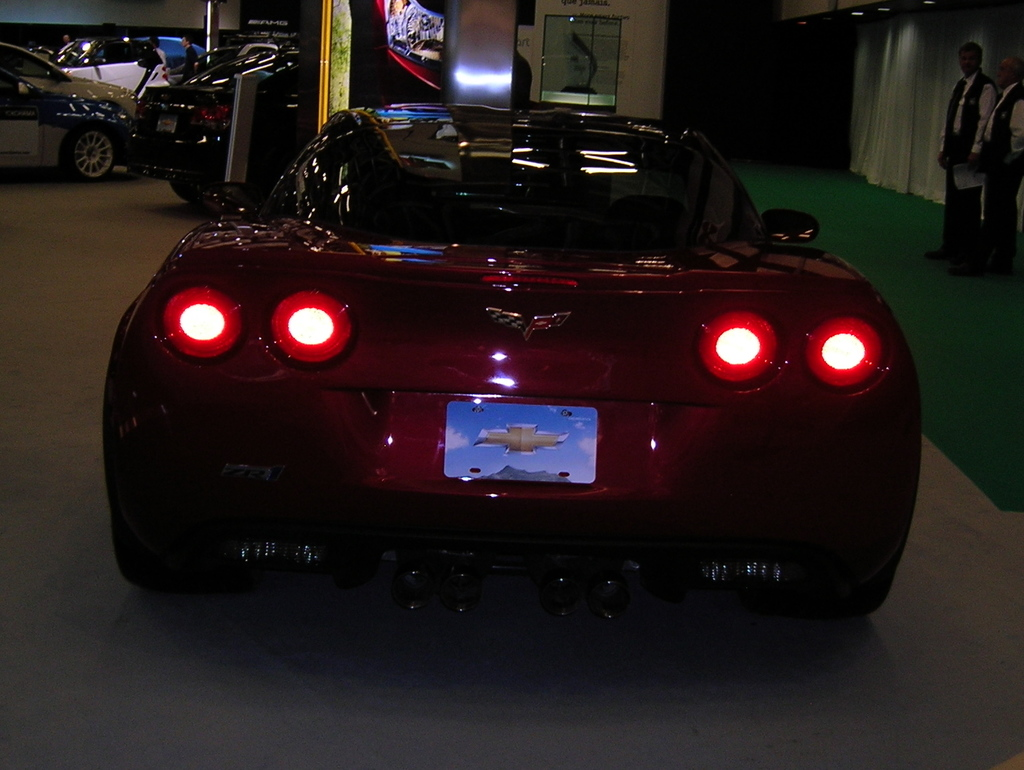Car: (98, 101, 922, 620), (131, 40, 298, 204), (0, 43, 138, 177), (27, 35, 165, 101)
